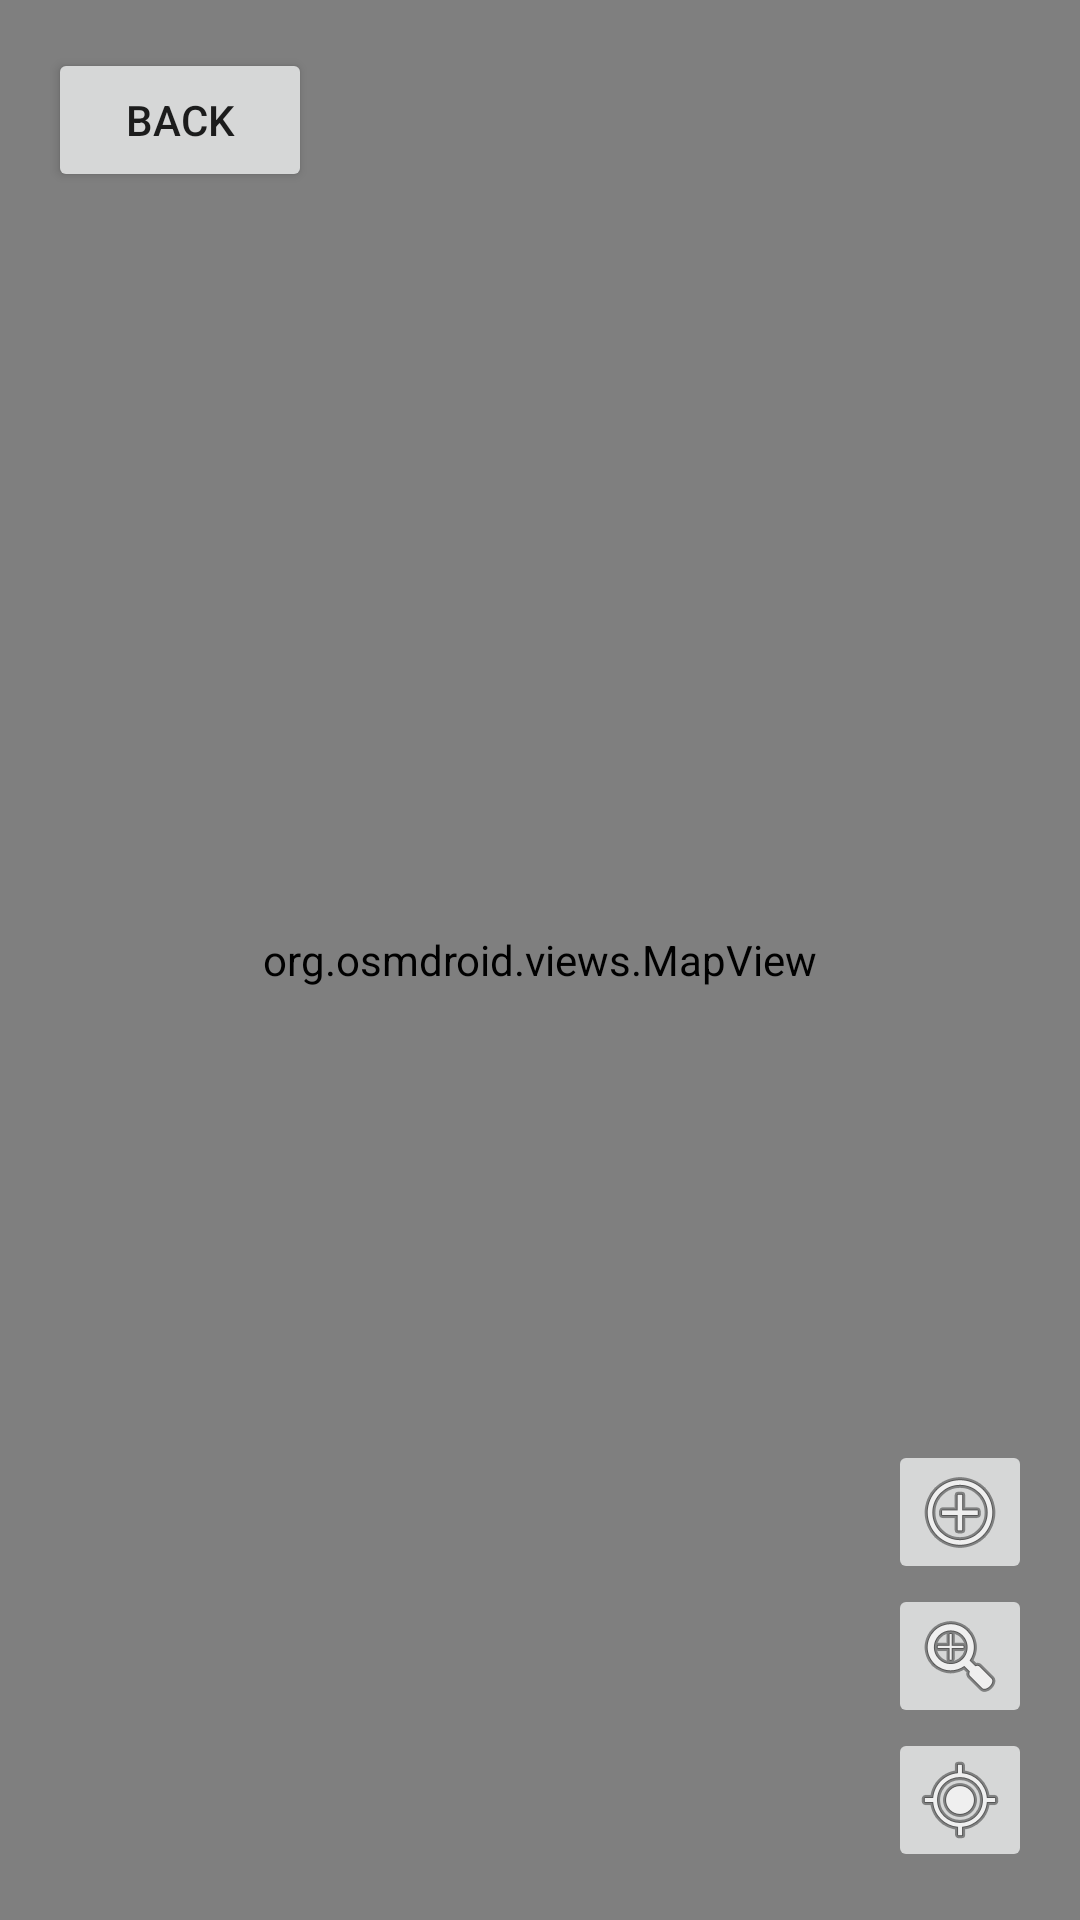

Icon bounding boxes for this 1080×1920 phone screenshot, format {"left": x1, "top": y1, "right": x2, "bottom": y2}:
add: {"left": 900, "top": 1458, "right": 1020, "bottom": 1566}
mylocation: {"left": 900, "top": 1746, "right": 1020, "bottom": 1854}
zoom: {"left": 900, "top": 1602, "right": 1020, "bottom": 1710}
